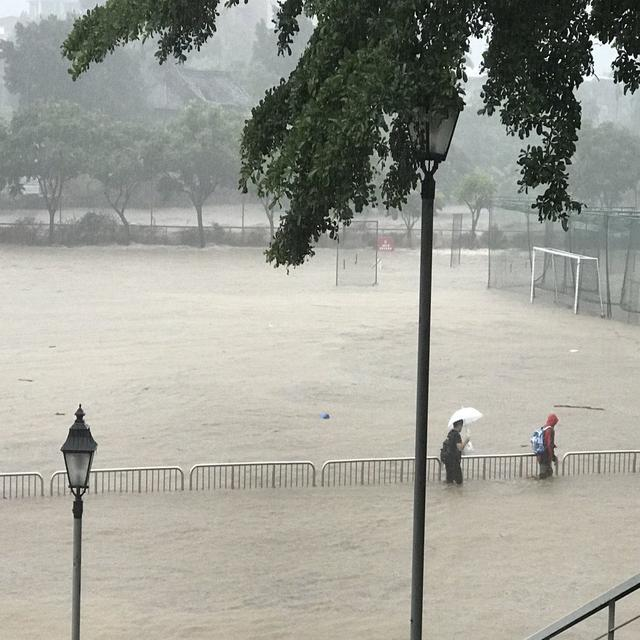Person-RiskLevel2: (435, 401, 489, 486), (524, 404, 580, 484)
